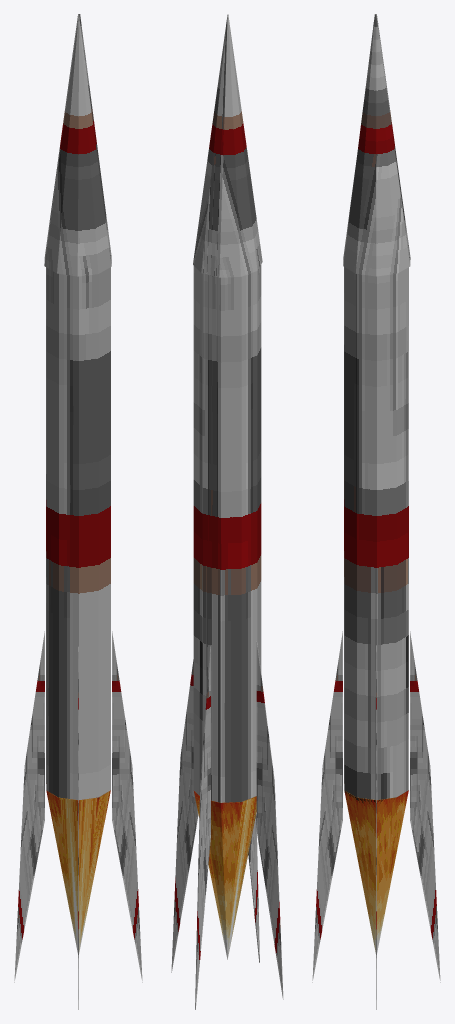
Rendered from amissile.obj.
3 renders of one model, left to right at view 1: azimuth 90°, elevation 25°; view 2: azimuth 150°, elevation 25°; view 3: azimuth 270°, elevation 25°, orthographic.
Bounding box in the file's own units: 2.06 × 17.17 × 2.06.
Materials: 2 (2 with a texture image).
